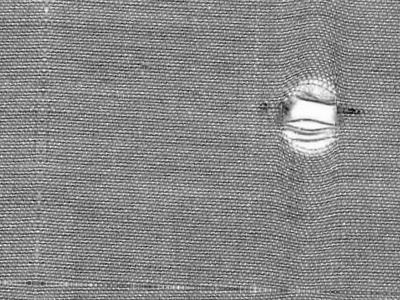hole: (275, 71, 343, 157)
